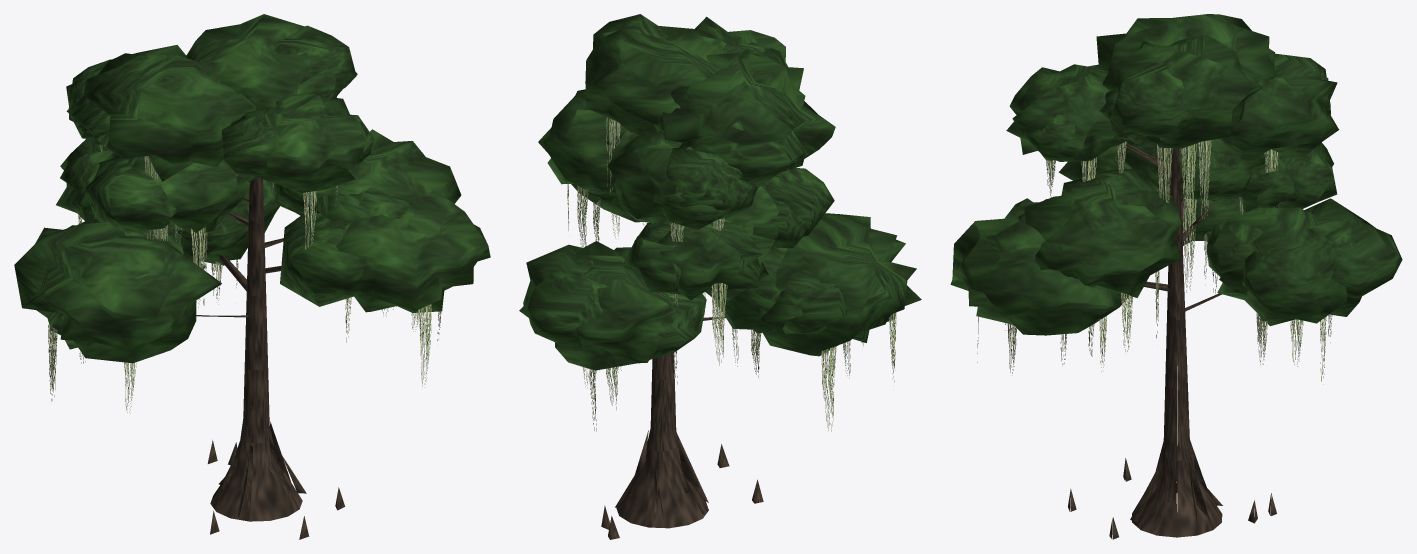
The model's file is cypress_1_lite.glb.
3 renders of one model, left to right at view 1: azimuth 30°, elevation 25°; view 2: azimuth 150°, elevation 25°; view 3: azimuth 270°, elevation 25°, orthographic.
Visible parts, largest first — view 1: cypress; view 2: cypress; view 3: cypress.
Part boxes in pixels (<box>): cypress: <box>14,14,490,539</box>; cypress: <box>519,14,921,539</box>; cypress: <box>950,14,1402,539</box>.
Bounding box in the file's own units: 14.79 × 17.03 × 14.81.
Materials: 3 (3 with a texture image).
